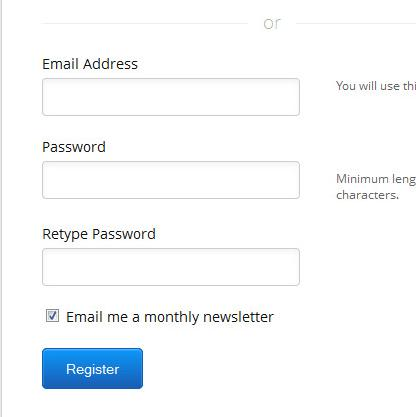button: (41, 347, 145, 390)
checkbox: (45, 306, 62, 325)
checkbox_with_label: (42, 306, 274, 326)
field: (41, 74, 301, 117), (40, 244, 300, 287), (43, 159, 300, 199)
field_with_label: (38, 226, 302, 288), (38, 58, 303, 119), (41, 141, 302, 201)
